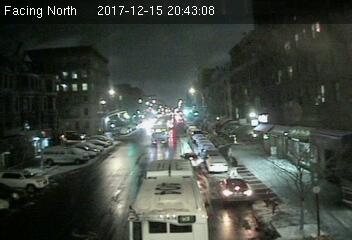bus: (128, 158, 216, 239)
car: (207, 156, 229, 174), (182, 152, 201, 168)
